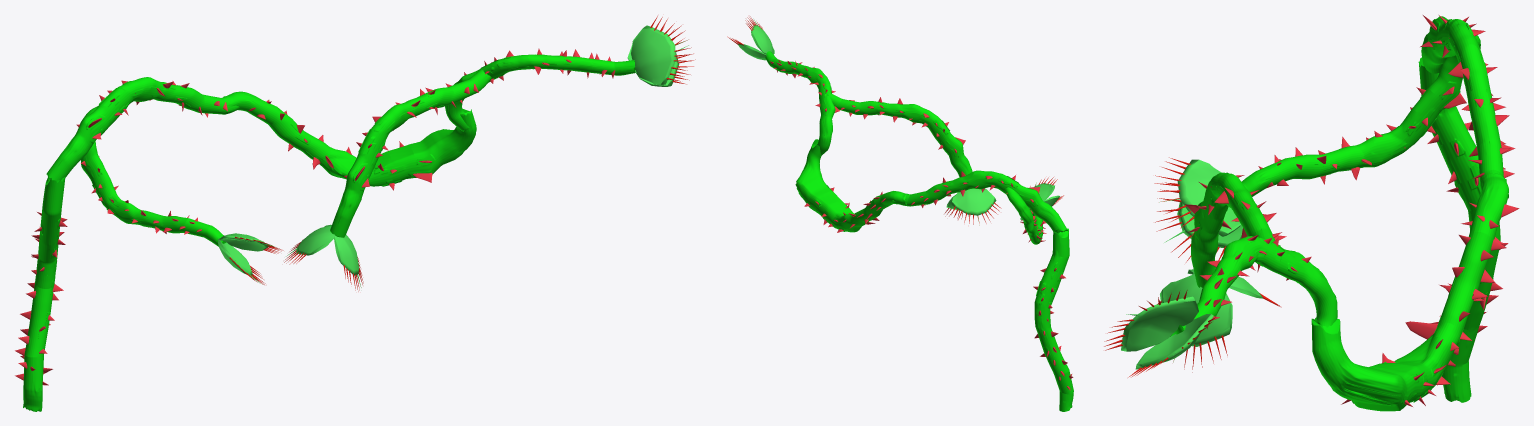
Rendered from Vine4Redo.fbx.
3 views of the same model, side by side, from view 1: azimuth 30°, elevation 25°; view 2: azimuth 150°, elevation 25°; view 3: azimuth 270°, elevation 25° (orthographic). The views are drawn at different scales.
Visible parts, largest first — view 1: Cylinder.002, Cylinder, Cylinder.001, Cylinder.004, Cylinder.005, Cylinder.003, side2.005, side2.003, side2.002, side2.001, side2; view 2: Cylinder.002, Cylinder, Cylinder.001, Cylinder.004, Cylinder.003, side2.002, Cylinder.005, side2.005; view 3: Cylinder.002, Cylinder.005, Cylinder.001, Cylinder, Cylinder.003, Cylinder.004, side2.005, side2.001, side2.003, side2.004, side2, side2.002.
Part boxes in pixels (box(x1,y1,x2,y2)): Cylinder.002: box(223, 91, 476, 190); Cylinder: box(15, 177, 67, 411); Cylinder.001: box(46, 77, 239, 181); Cylinder.004: box(330, 69, 491, 237); Cylinder.005: box(80, 105, 226, 246); Cylinder.003: box(445, 48, 635, 131); side2.005: box(631, 16, 691, 84); side2.003: box(334, 234, 363, 291); side2.002: box(284, 224, 334, 264); side2.001: box(219, 233, 283, 253); side2: box(218, 238, 265, 284); Cylinder.002: box(795, 139, 908, 232); Cylinder: box(1033, 228, 1073, 411); Cylinder.001: box(892, 170, 1068, 233); Cylinder.004: box(824, 93, 972, 177); Cylinder.003: box(765, 51, 839, 155); side2.002: box(951, 188, 1001, 225); Cylinder.005: box(1004, 187, 1046, 244); side2.005: box(745, 16, 774, 54); Cylinder.002: box(1311, 173, 1519, 411); Cylinder.005: box(1241, 35, 1480, 196); Cylinder.001: box(1420, 15, 1515, 198); Cylinder: box(1418, 57, 1508, 402); Cylinder.003: box(1170, 235, 1337, 336); Cylinder.004: box(1185, 172, 1289, 287); side2.005: box(1104, 290, 1198, 351); side2.001: box(1154, 157, 1241, 236); side2.003: box(1157, 274, 1232, 372); side2.004: box(1128, 314, 1215, 377); side2: box(1155, 182, 1242, 262); side2.002: box(1187, 269, 1281, 307).
Bounding box in the file's own units: 2000 × 1118 × 866.
